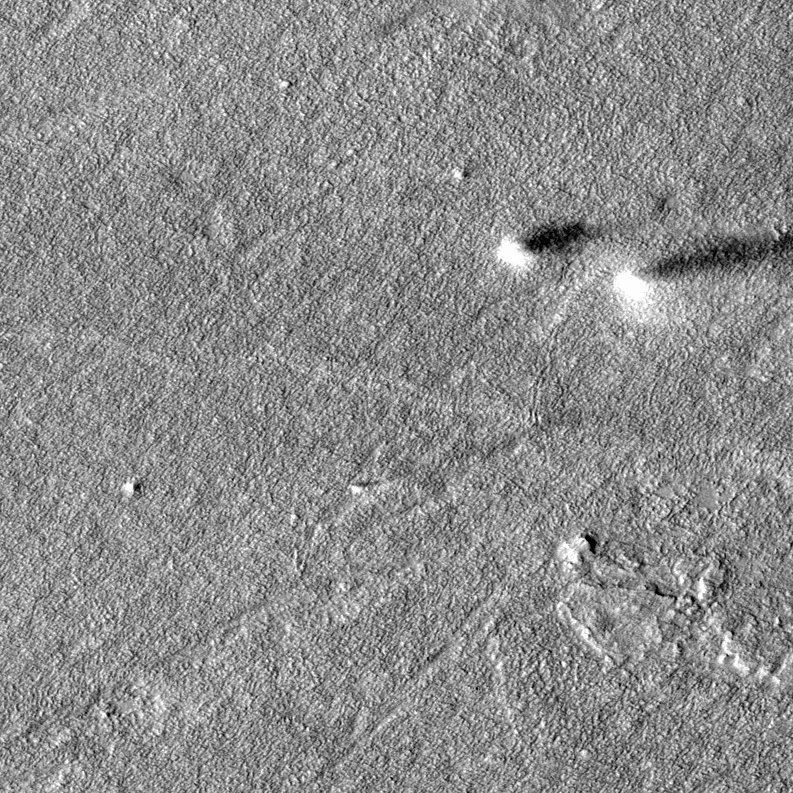dust_devil: (610, 231, 793, 307), (494, 215, 602, 270)
